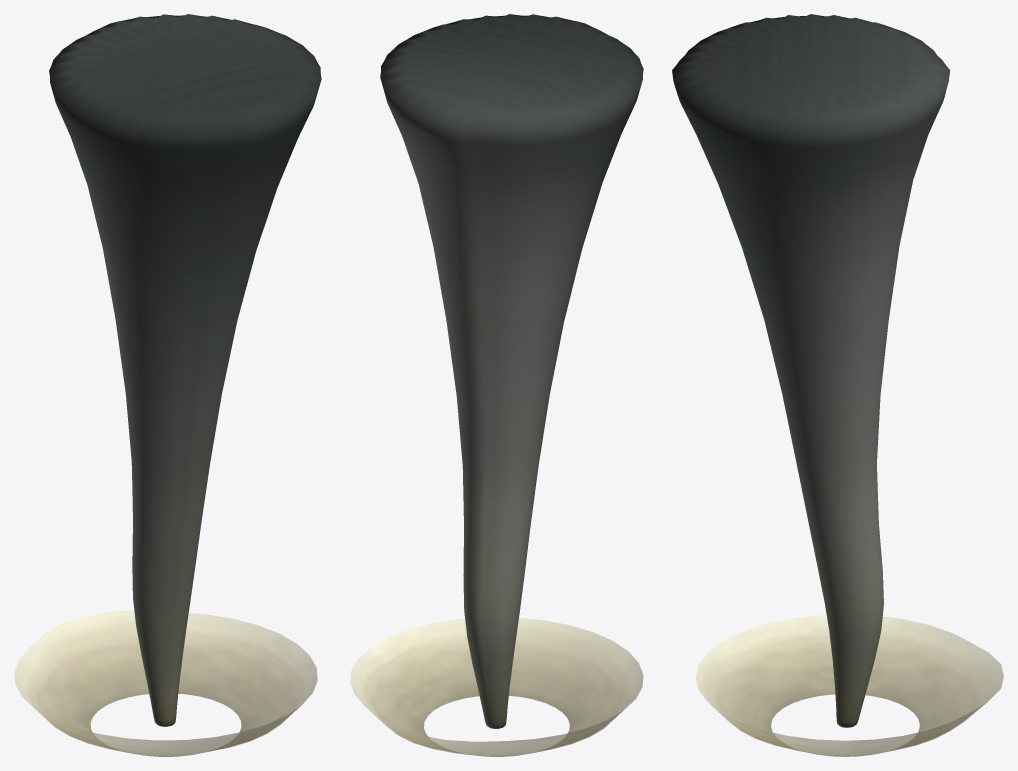
The model's file is tornado.obj.
3 views of the same model, side by side, from view 1: azimuth 30°, elevation 25°; view 2: azimuth 150°, elevation 25°; view 3: azimuth 270°, elevation 25° (orthographic). The views are drawn at different scales.
Visible parts, largest first — view 1: obj1, obj2; view 2: obj1, obj2; view 3: obj1, obj2.
Boxes of the visible parts, x1=… form: obj1: x1=49, y1=14, x2=321, y2=726; obj2: x1=14, y1=610, x2=317, y2=756; obj1: x1=380, y1=14, x2=643, y2=728; obj2: x1=350, y1=618, x2=643, y2=756; obj1: x1=672, y1=14, x2=949, y2=727; obj2: x1=695, y1=615, x2=1003, y2=756.
Size of the model in its own units: 1.6 by 3.95 by 1.78.
